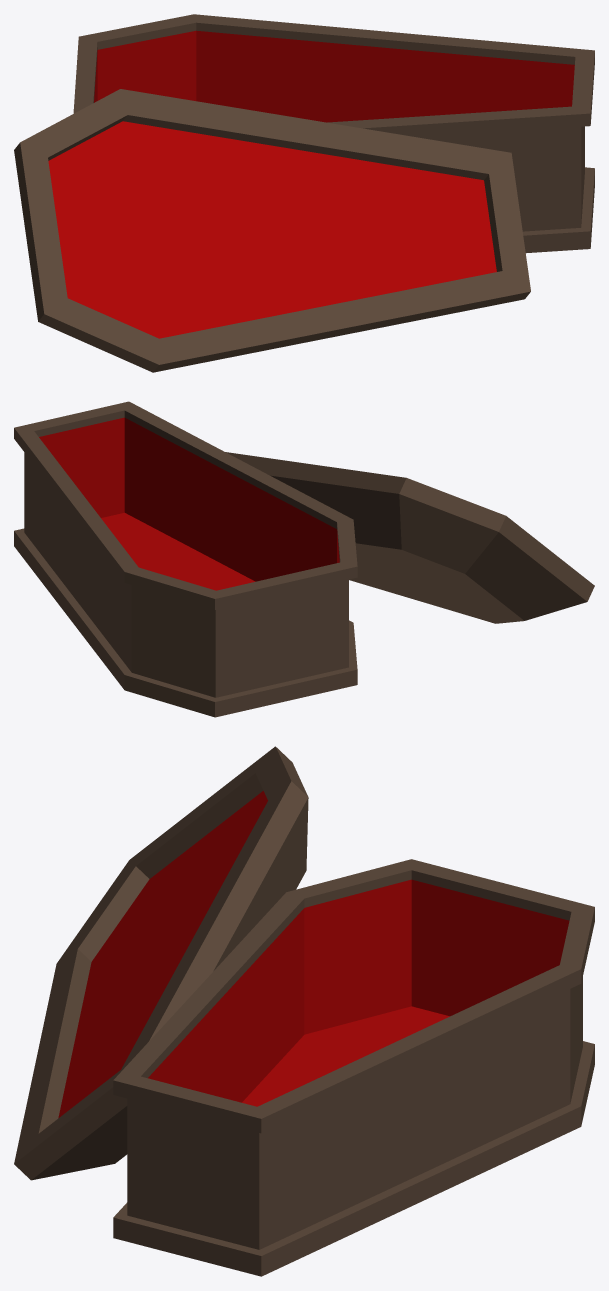
Rendered from Dracula_Coffin.fbx.
3 renders of one model, top to bottom at view 1: azimuth 30°, elevation 25°; view 2: azimuth 150°, elevation 25°; view 3: azimuth 270°, elevation 25°, orthographic. The views are drawn at different scales.
Parts seen in each view (by area): view 1: pCube8; view 2: pCube8; view 3: pCube8.
Boxes of the visible parts, x1,y1,x2,y2 form: pCube8: [14, 14, 594, 372]; pCube8: [14, 401, 594, 717]; pCube8: [14, 746, 594, 1276].
Size of the model in its own units: 469 by 148 by 334.
